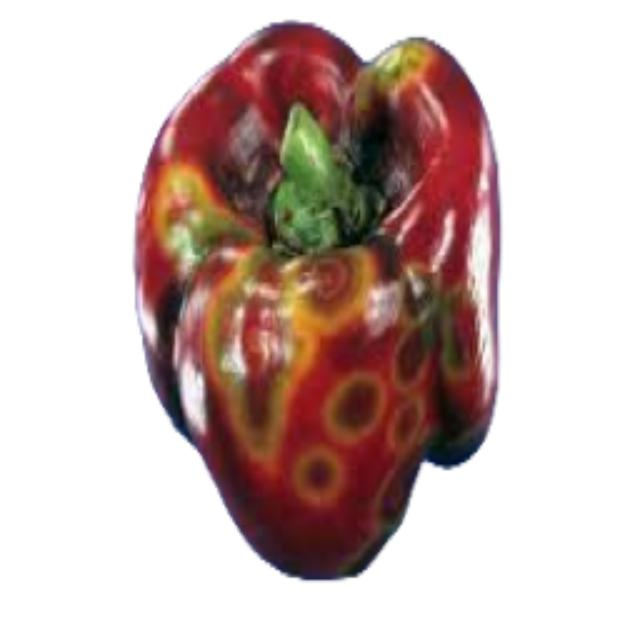defect: (127, 12, 506, 580)
